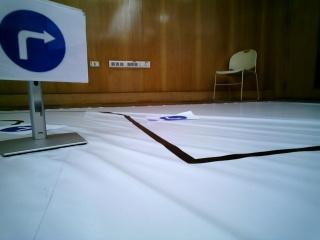right: (0, 0, 89, 82)
